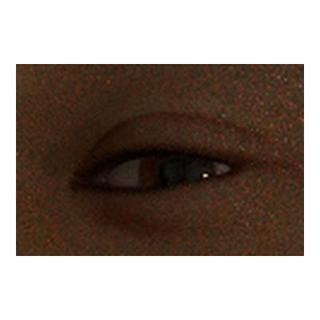pupil: (160, 158, 193, 191)
